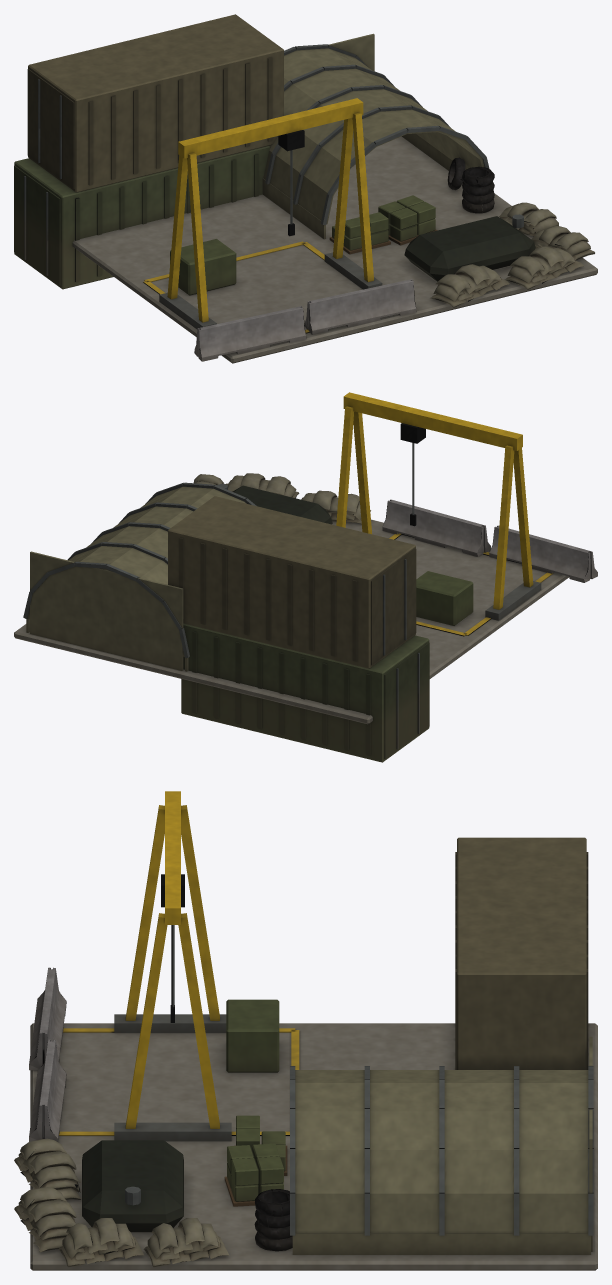
File: logisticscenter.glb
The picture shows the model from 3 angles, top to bottom: view 1: azimuth 30°, elevation 25°; view 2: azimuth 150°, elevation 25°; view 3: azimuth 270°, elevation 25°; orthographic projection. The views are drawn at different scales.
Parts seen in each view (by area): view 1: hull; view 2: hull; view 3: hull.
Part boxes in pixels (x1,y1,x2,y2): hull: (14,14,597,363); hull: (14,392,597,762); hull: (14,791,597,1270).
Bounding box in the file's own units: 11.75 × 6.12 × 10.96.
1 material, 1 textured.
